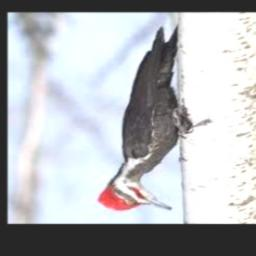Woodpecker: (98, 24, 189, 211)
